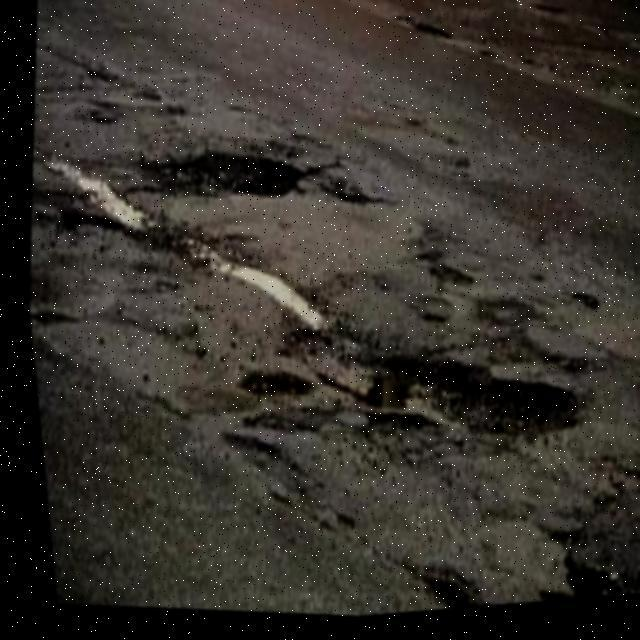pothole: (256, 304, 584, 502), (130, 134, 310, 219)
